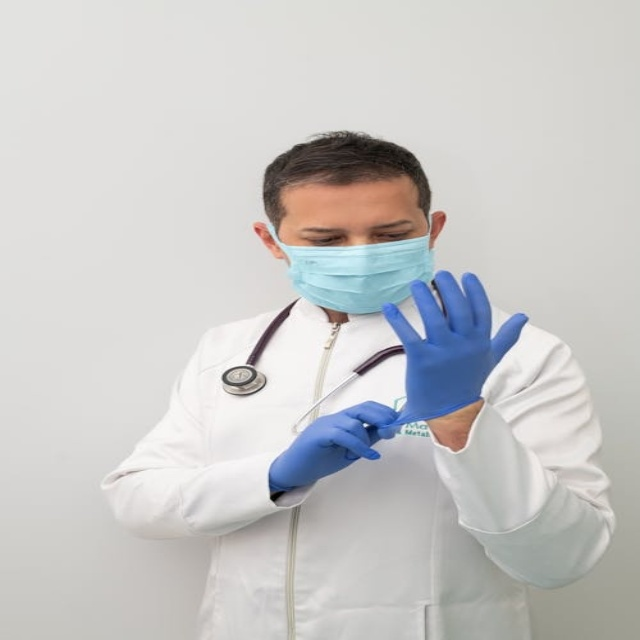Guantes: (379, 270, 525, 425), (269, 400, 403, 493)
Mascara: (272, 216, 437, 313)
Sin_gafas: (287, 210, 420, 243)
